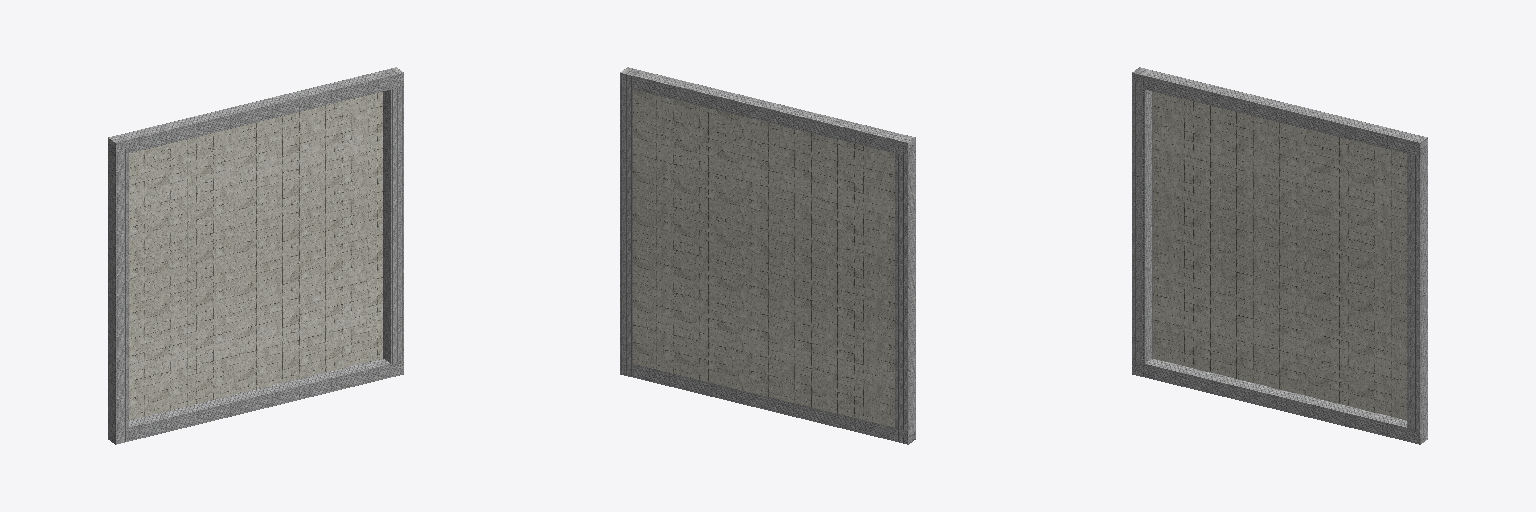
3 views of the same model, side by side, from view 1: azimuth 30°, elevation 25°; view 2: azimuth 150°, elevation 25°; view 3: azimuth 330°, elevation 25° (orthographic).
Parts seen in each view (by area): view 1: Plane, Cube.003_Cube.007, Cube_Cube.001, Cube.001_Cube.005, Cube.002_Cube.006; view 2: Plane, Cube.003_Cube.007, Cube_Cube.001, Cube.001_Cube.005, Cube.002_Cube.006; view 3: Plane, Cube_Cube.001, Cube.003_Cube.007, Cube.001_Cube.005, Cube.002_Cube.006.
Boxes of the visible parts, <box> form: Plane: <box>129,92,382,419</box>; Cube.003_Cube.007: <box>108,136,128,444</box>; Cube_Cube.001: <box>108,70,403,155</box>; Cube.001_Cube.005: <box>383,67,403,363</box>; Cube.002_Cube.006: <box>111,359,403,443</box>; Plane: <box>633,90,894,427</box>; Cube.003_Cube.007: <box>895,136,915,444</box>; Cube_Cube.001: <box>626,67,915,156</box>; Cube.001_Cube.005: <box>620,68,640,376</box>; Cube.002_Cube.006: <box>633,364,915,444</box>; Plane: <box>1153,92,1406,419</box>; Cube_Cube.001: <box>1132,68,1427,156</box>; Cube.003_Cube.007: <box>1132,67,1152,376</box>; Cube.001_Cube.005: <box>1407,139,1427,443</box>; Cube.002_Cube.006: <box>1132,359,1421,444</box>.
Bounding box in the file's own units: 44 × 44 × 2.
Materials: 5 (2 with a texture image).